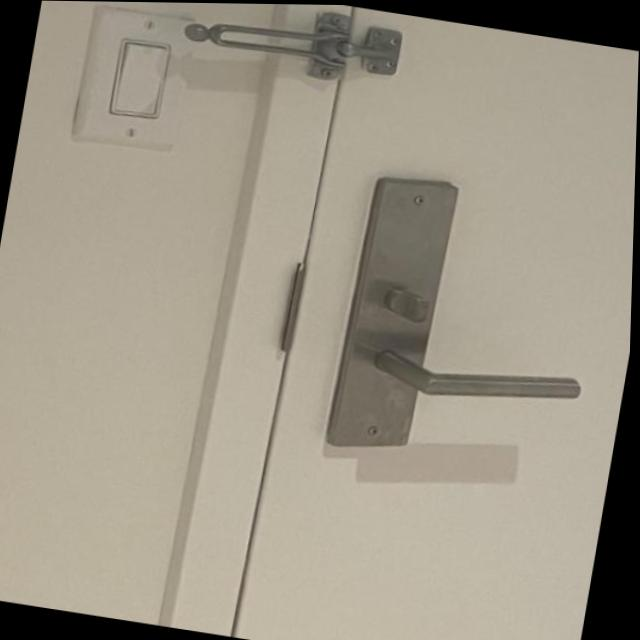door_handle: (326, 314, 605, 430)
